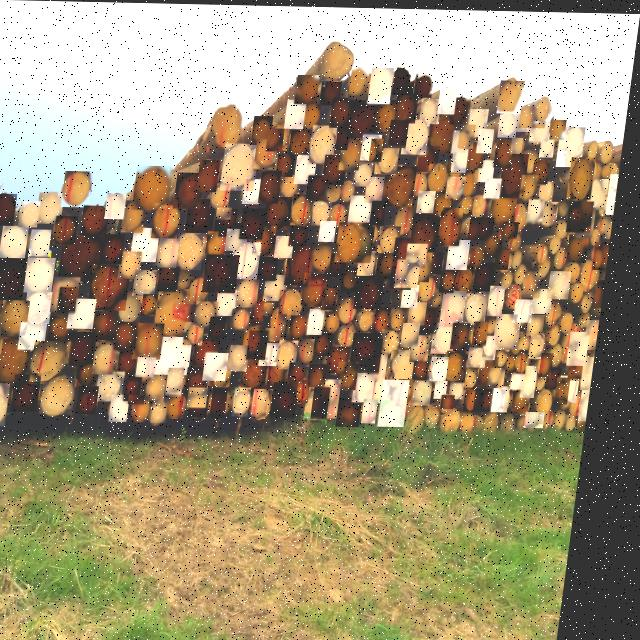wood-log: (66, 236, 111, 281), (163, 287, 204, 335), (96, 264, 138, 310), (0, 337, 41, 383), (225, 142, 263, 190), (138, 165, 178, 209), (40, 341, 80, 384), (342, 220, 382, 261), (214, 103, 250, 147), (162, 335, 202, 374), (0, 258, 35, 300), (389, 378, 420, 425), (210, 253, 247, 292), (51, 376, 88, 414), (322, 42, 359, 80), (387, 164, 421, 205), (503, 151, 533, 196), (292, 243, 322, 286), (350, 98, 382, 137), (571, 154, 600, 197), (431, 111, 461, 151), (182, 232, 214, 269), (560, 125, 589, 165), (31, 257, 63, 293), (66, 171, 98, 207), (142, 322, 173, 359), (237, 241, 268, 278), (22, 374, 52, 412), (416, 212, 446, 250), (74, 331, 106, 365), (8, 300, 39, 335), (361, 273, 392, 308), (157, 202, 187, 238), (179, 172, 209, 208), (313, 124, 341, 162), (191, 198, 222, 232), (58, 277, 88, 312), (501, 312, 530, 348), (359, 331, 390, 364), (281, 381, 310, 416), (443, 205, 469, 244), (405, 117, 433, 153), (448, 288, 475, 325), (86, 205, 116, 238), (137, 227, 166, 261), (495, 188, 523, 223), (398, 348, 425, 384), (32, 291, 61, 324), (270, 195, 298, 229), (251, 355, 278, 390), (370, 66, 396, 102), (6, 226, 35, 258), (522, 94, 551, 126), (0, 382, 21, 426), (499, 78, 527, 111), (309, 272, 337, 305), (106, 370, 135, 401), (76, 298, 105, 329), (42, 192, 70, 224), (285, 288, 313, 320), (202, 334, 229, 367), (125, 291, 152, 324), (572, 198, 599, 230), (471, 291, 497, 324), (103, 341, 128, 374), (27, 322, 56, 350), (101, 310, 128, 340), (246, 207, 272, 238), (127, 200, 152, 232), (218, 356, 243, 388), (440, 320, 465, 352), (453, 349, 478, 381), (263, 169, 287, 202), (258, 138, 282, 171), (576, 329, 599, 363), (326, 153, 352, 183), (353, 194, 379, 224), (107, 233, 132, 264), (201, 159, 225, 191), (0, 193, 23, 226), (347, 396, 373, 425), (213, 351, 239, 380), (413, 251, 439, 280), (127, 347, 152, 377), (297, 73, 322, 103), (431, 162, 456, 192), (350, 65, 372, 99), (397, 91, 421, 122), (453, 237, 477, 268), (519, 98, 542, 130), (402, 258, 428, 286), (60, 215, 85, 244), (379, 146, 404, 175), (259, 224, 283, 254), (296, 193, 319, 224), (591, 176, 614, 207), (388, 398, 414, 425), (242, 278, 267, 306), (399, 235, 424, 263), (259, 294, 283, 323), (195, 366, 219, 395), (555, 268, 579, 297), (488, 354, 509, 387), (332, 96, 355, 126), (163, 237, 186, 267), (343, 139, 366, 169), (377, 98, 399, 129), (202, 300, 227, 327), (124, 321, 148, 349), (383, 224, 407, 252), (394, 65, 418, 93), (87, 385, 110, 414), (298, 154, 321, 183), (363, 371, 386, 400), (469, 106, 492, 135), (481, 260, 504, 289), (573, 231, 596, 260), (577, 350, 600, 379), (292, 125, 314, 155), (287, 98, 309, 128), (315, 388, 336, 419), (271, 274, 296, 300), (140, 269, 165, 295), (125, 251, 149, 278), (566, 373, 590, 400), (332, 383, 351, 417), (251, 326, 274, 354), (346, 360, 369, 388), (316, 242, 339, 270), (254, 115, 276, 144), (286, 339, 308, 368), (256, 329, 278, 358), (581, 205, 602, 235), (220, 207, 244, 233), (35, 229, 58, 256), (336, 345, 359, 372), (460, 263, 482, 291), (535, 94, 556, 123), (322, 386, 341, 418), (57, 316, 81, 341), (378, 349, 398, 379), (397, 263, 421, 288), (421, 144, 444, 170), (474, 215, 500, 238), (436, 189, 459, 215), (211, 230, 233, 257), (196, 276, 218, 303), (223, 288, 245, 315), (273, 121, 294, 149), (391, 119, 412, 147), (0, 315, 15, 354), (297, 314, 320, 339), (24, 201, 46, 227), (274, 313, 296, 339), (364, 133, 386, 159), (165, 265, 187, 291), (347, 266, 369, 292), (110, 193, 132, 219), (120, 394, 141, 421), (468, 139, 489, 166), (546, 386, 567, 413), (424, 274, 445, 301), (65, 287, 86, 314), (498, 137, 518, 165), (262, 387, 280, 418), (495, 283, 513, 314), (263, 255, 286, 279), (243, 386, 262, 415), (176, 367, 195, 396), (422, 97, 444, 122), (322, 79, 344, 104), (539, 286, 561, 311), (412, 242, 434, 267), (247, 178, 268, 204), (156, 374, 177, 400), (238, 344, 259, 370), (422, 377, 443, 403), (383, 251, 404, 277), (501, 109, 522, 135), (531, 363, 548, 395), (454, 95, 474, 122), (420, 333, 440, 360), (377, 337, 392, 373), (305, 337, 324, 365), (86, 363, 108, 387), (332, 252, 354, 276), (231, 228, 255, 250), (215, 182, 236, 207), (199, 392, 220, 417), (221, 388, 239, 417), (440, 86, 460, 112), (530, 269, 550, 295), (277, 361, 296, 388), (465, 167, 484, 194), (192, 321, 214, 344), (357, 161, 378, 185), (317, 200, 338, 224), (389, 328, 410, 352), (322, 331, 343, 355), (268, 341, 289, 365), (317, 362, 338, 386), (517, 347, 538, 371), (286, 173, 306, 198), (416, 71, 436, 96), (409, 321, 429, 346), (142, 396, 161, 422), (524, 173, 543, 199), (460, 321, 479, 347), (370, 175, 389, 201), (406, 377, 424, 404), (332, 378, 353, 401), (521, 297, 542, 320), (450, 174, 471, 197), (383, 377, 403, 401), (439, 355, 459, 379), (311, 174, 331, 198), (611, 171, 623, 211), (599, 239, 616, 267), (305, 103, 324, 128), (162, 397, 181, 422), (364, 249, 383, 274), (382, 305, 400, 331), (430, 305, 448, 331), (270, 301, 288, 327), (532, 119, 553, 141), (280, 152, 300, 175), (490, 232, 510, 255), (281, 234, 301, 257), (239, 308, 259, 331), (544, 199, 564, 222), (474, 385, 493, 409), (455, 128, 474, 152), (135, 375, 153, 400), (593, 317, 608, 347), (316, 307, 333, 333), (198, 386, 219, 407), (522, 388, 541, 411), (416, 300, 435, 323), (536, 158, 554, 182), (480, 127, 498, 151), (532, 197, 550, 221), (565, 375, 581, 402), (591, 354, 604, 387), (178, 392, 195, 417), (432, 250, 451, 272), (422, 189, 441, 211), (409, 283, 427, 306), (446, 268, 464, 291), (270, 127, 288, 150), (462, 123, 479, 147), (538, 333, 555, 357), (375, 199, 392, 223), (543, 130, 559, 155), (373, 397, 389, 422), (295, 225, 315, 245), (146, 357, 166, 377), (477, 345, 497, 365), (324, 219, 343, 240), (481, 158, 499, 180), (218, 315, 236, 337), (373, 137, 390, 160), (506, 384, 521, 410), (0, 236, 11, 271), (491, 334, 507, 358), (481, 319, 497, 343), (298, 361, 316, 382), (535, 312, 553, 333), (504, 219, 525, 237), (329, 287, 346, 309), (556, 364, 572, 387), (488, 176, 506, 196), (499, 365, 516, 386), (150, 294, 166, 316), (502, 385, 516, 410), (491, 386, 506, 409), (306, 378, 321, 401), (484, 386, 499, 409), (589, 387, 600, 418), (553, 117, 570, 137), (455, 150, 472, 170), (543, 179, 559, 200), (535, 409, 556, 425), (549, 350, 563, 374), (464, 192, 480, 213), (225, 221, 247, 236), (451, 154, 469, 172), (422, 359, 439, 378), (501, 247, 517, 267), (520, 366, 535, 387), (339, 126, 353, 148), (476, 246, 492, 265), (602, 277, 612, 305), (459, 380, 475, 397), (0, 277, 7, 315), (444, 378, 458, 397), (609, 192, 621, 212), (588, 407, 598, 429), (451, 393, 466, 407), (514, 135, 527, 151), (221, 207, 238, 219), (610, 214, 618, 236), (139, 394, 156, 403), (0, 354, 3, 387)
